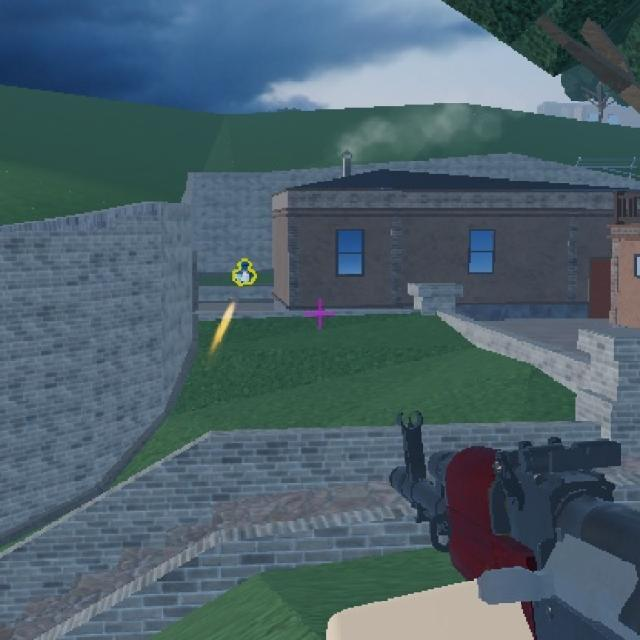player: (236, 258, 256, 289)
